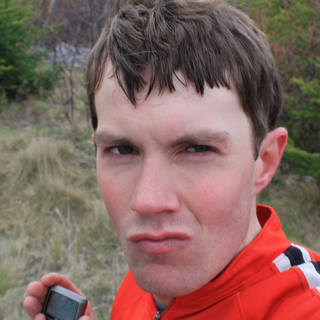eye: (168, 133, 226, 165), (98, 136, 147, 165)
